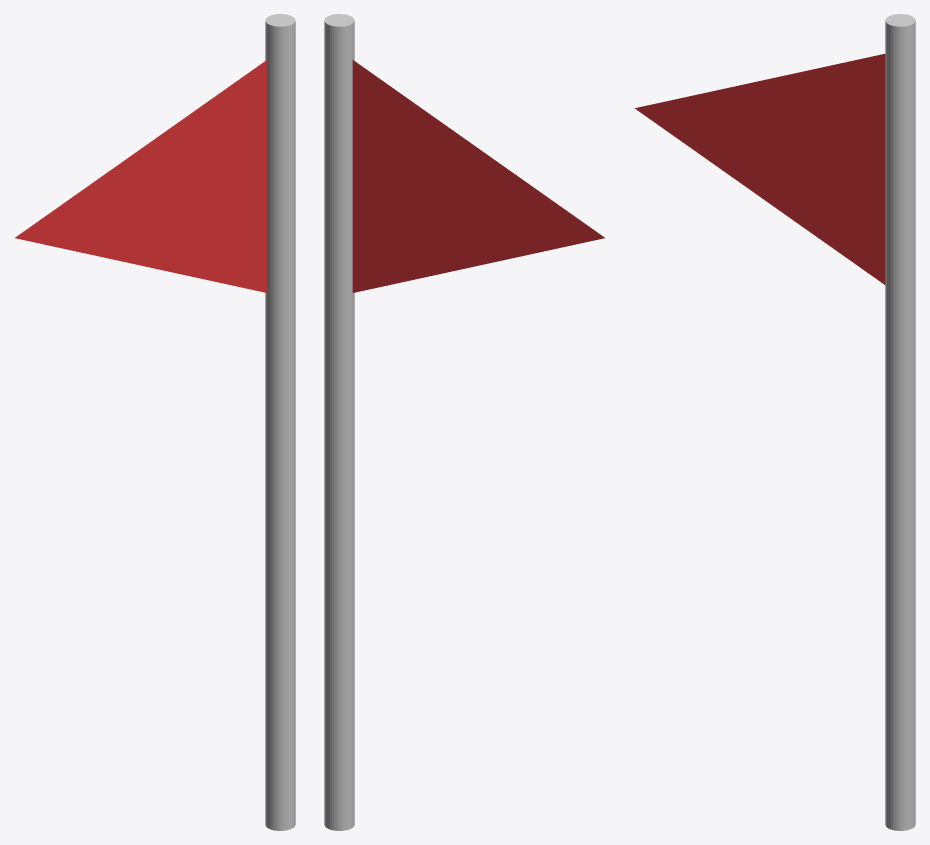
Rendered from S_CheckPointMesh.fbx.
The picture shows the model from 3 angles, left to right: view 1: azimuth 30°, elevation 25°; view 2: azimuth 150°, elevation 25°; view 3: azimuth 330°, elevation 25°; orthographic projection.
Visible parts, largest first — view 1: 平面; view 2: 平面; view 3: 平面.
Part boxes in pixels (x1,y1,x2,y2): 平面: (15,14,295,830); 平面: (324,14,604,830); 平面: (635,14,915,830).
Size of the model in its own units: 13.28 by 142 by 391.
